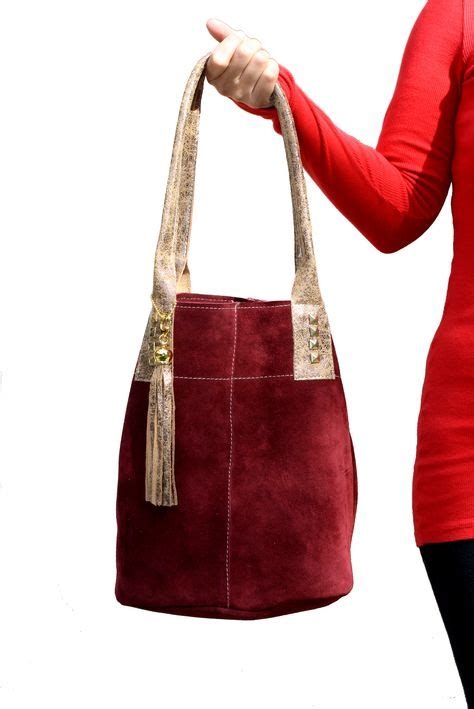gamuza: (115, 293, 359, 619)
